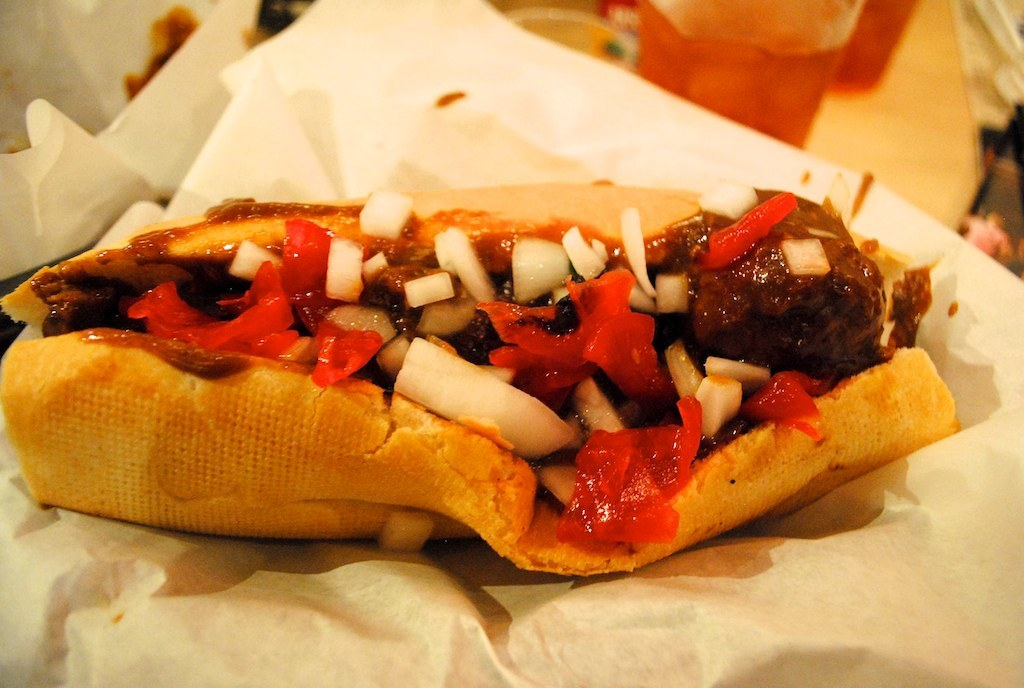Hamburger: (1, 180, 981, 579)
